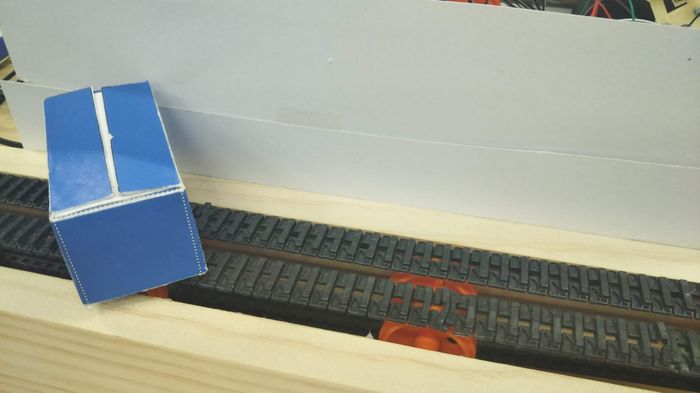box3: (39, 77, 209, 310)
